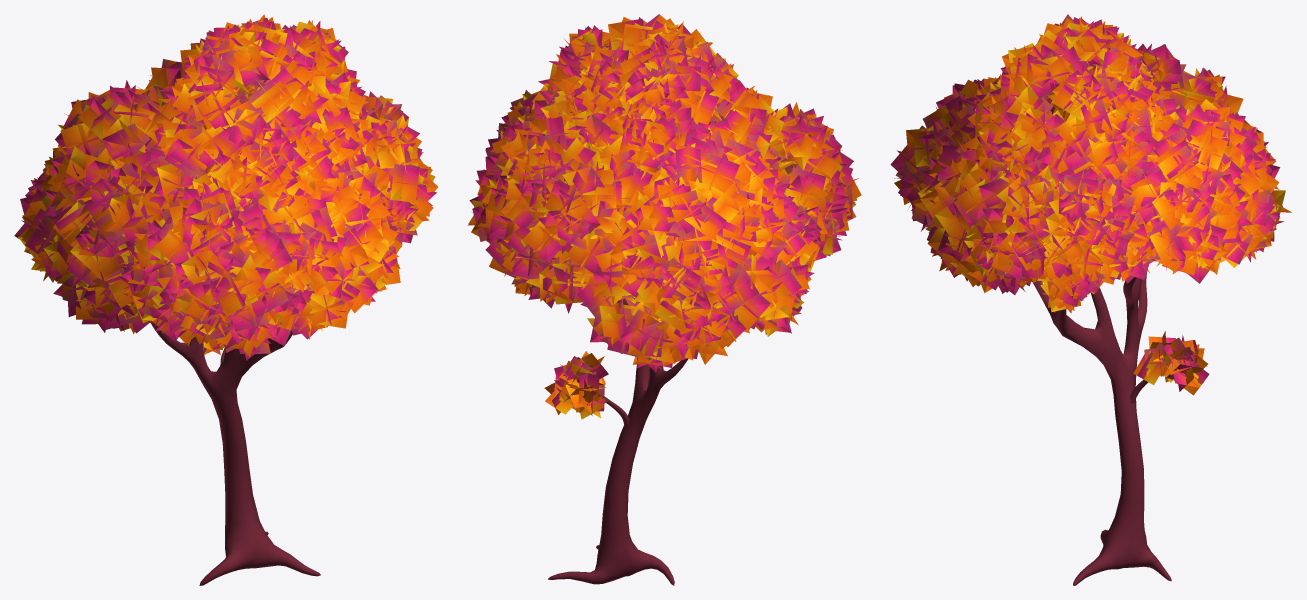
File: Tree4.fbx
3 views of the same model, side by side, from view 1: azimuth 30°, elevation 25°; view 2: azimuth 150°, elevation 25°; view 3: azimuth 270°, elevation 25° (orthographic). The views are drawn at different scales.
Parts seen in each view (by area): view 1: Leaves.007, Plane.010; view 2: Leaves.007, Plane.010, Plane.040; view 3: Leaves.007, Plane.010, Plane.040.
Boxes of the visible parts, x1,y1,x2,y2 form: Leaves.007: [14, 14, 438, 360]; Plane.010: [151, 323, 320, 585]; Leaves.007: [467, 14, 861, 372]; Plane.010: [548, 298, 688, 585]; Plane.040: [544, 351, 609, 419]; Leaves.007: [890, 14, 1291, 313]; Plane.010: [1033, 239, 1171, 585]; Plane.040: [1133, 331, 1209, 395].
Size of the model in its own units: 608 by 943 by 645.
